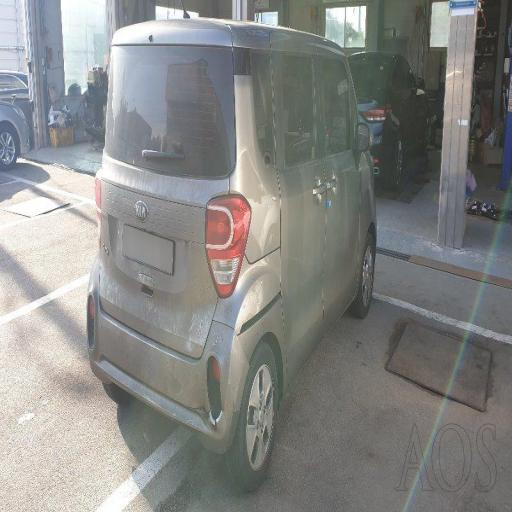scratch: (92, 251, 237, 411)
